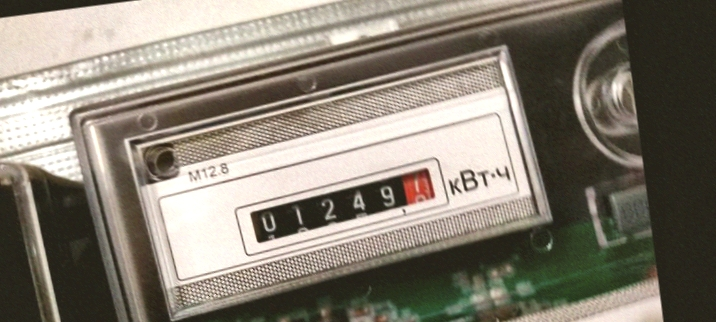0: (255, 206, 277, 234)
1: (286, 201, 304, 228)
2: (316, 195, 339, 223)
4: (347, 185, 368, 214)
7: (405, 170, 423, 195)
9: (376, 181, 397, 208)
screen: (224, 157, 465, 262)
